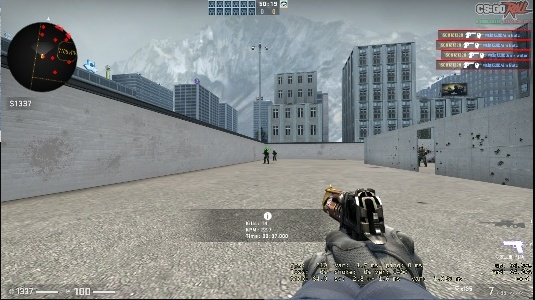body: (418, 146, 429, 167), (262, 147, 270, 164), (272, 149, 277, 162)
head: (264, 147, 268, 152), (420, 146, 424, 151), (273, 149, 276, 153)
